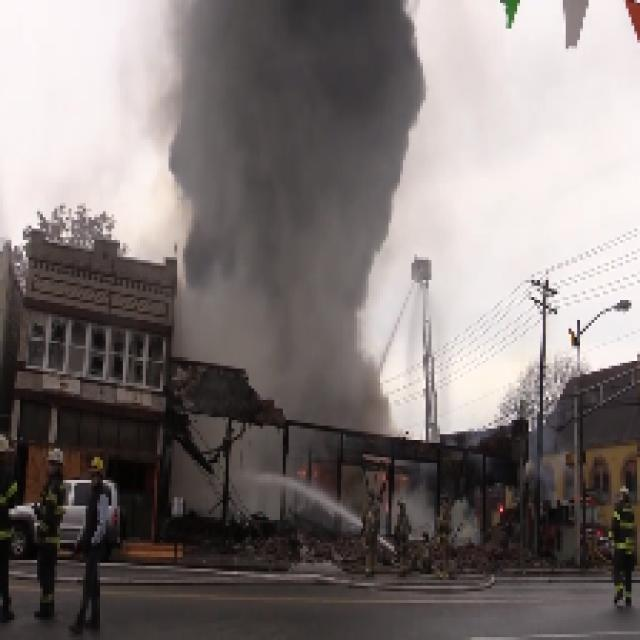smoke: (167, 2, 407, 346)
